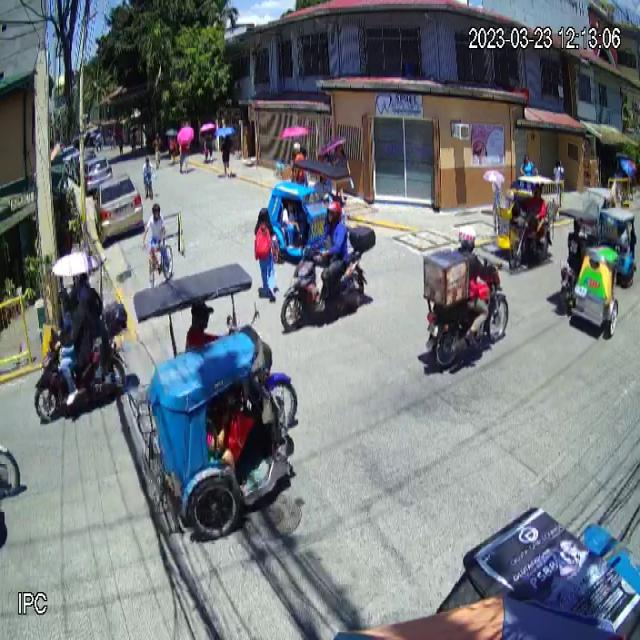Motorcycle: (34, 300, 128, 423), (422, 257, 510, 374), (280, 224, 376, 331)
Tricycle: (128, 262, 298, 543), (268, 160, 352, 262), (558, 208, 620, 338)
